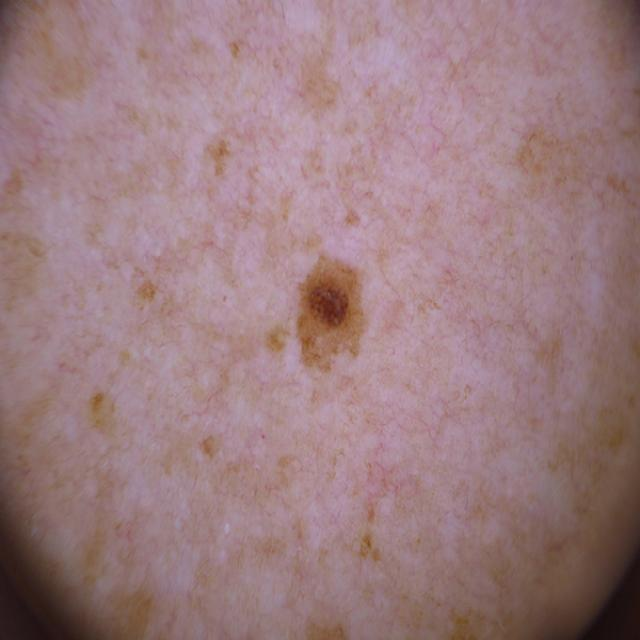Skin-Cancer Pigmented benign keratosis: (42, 11, 612, 640)
